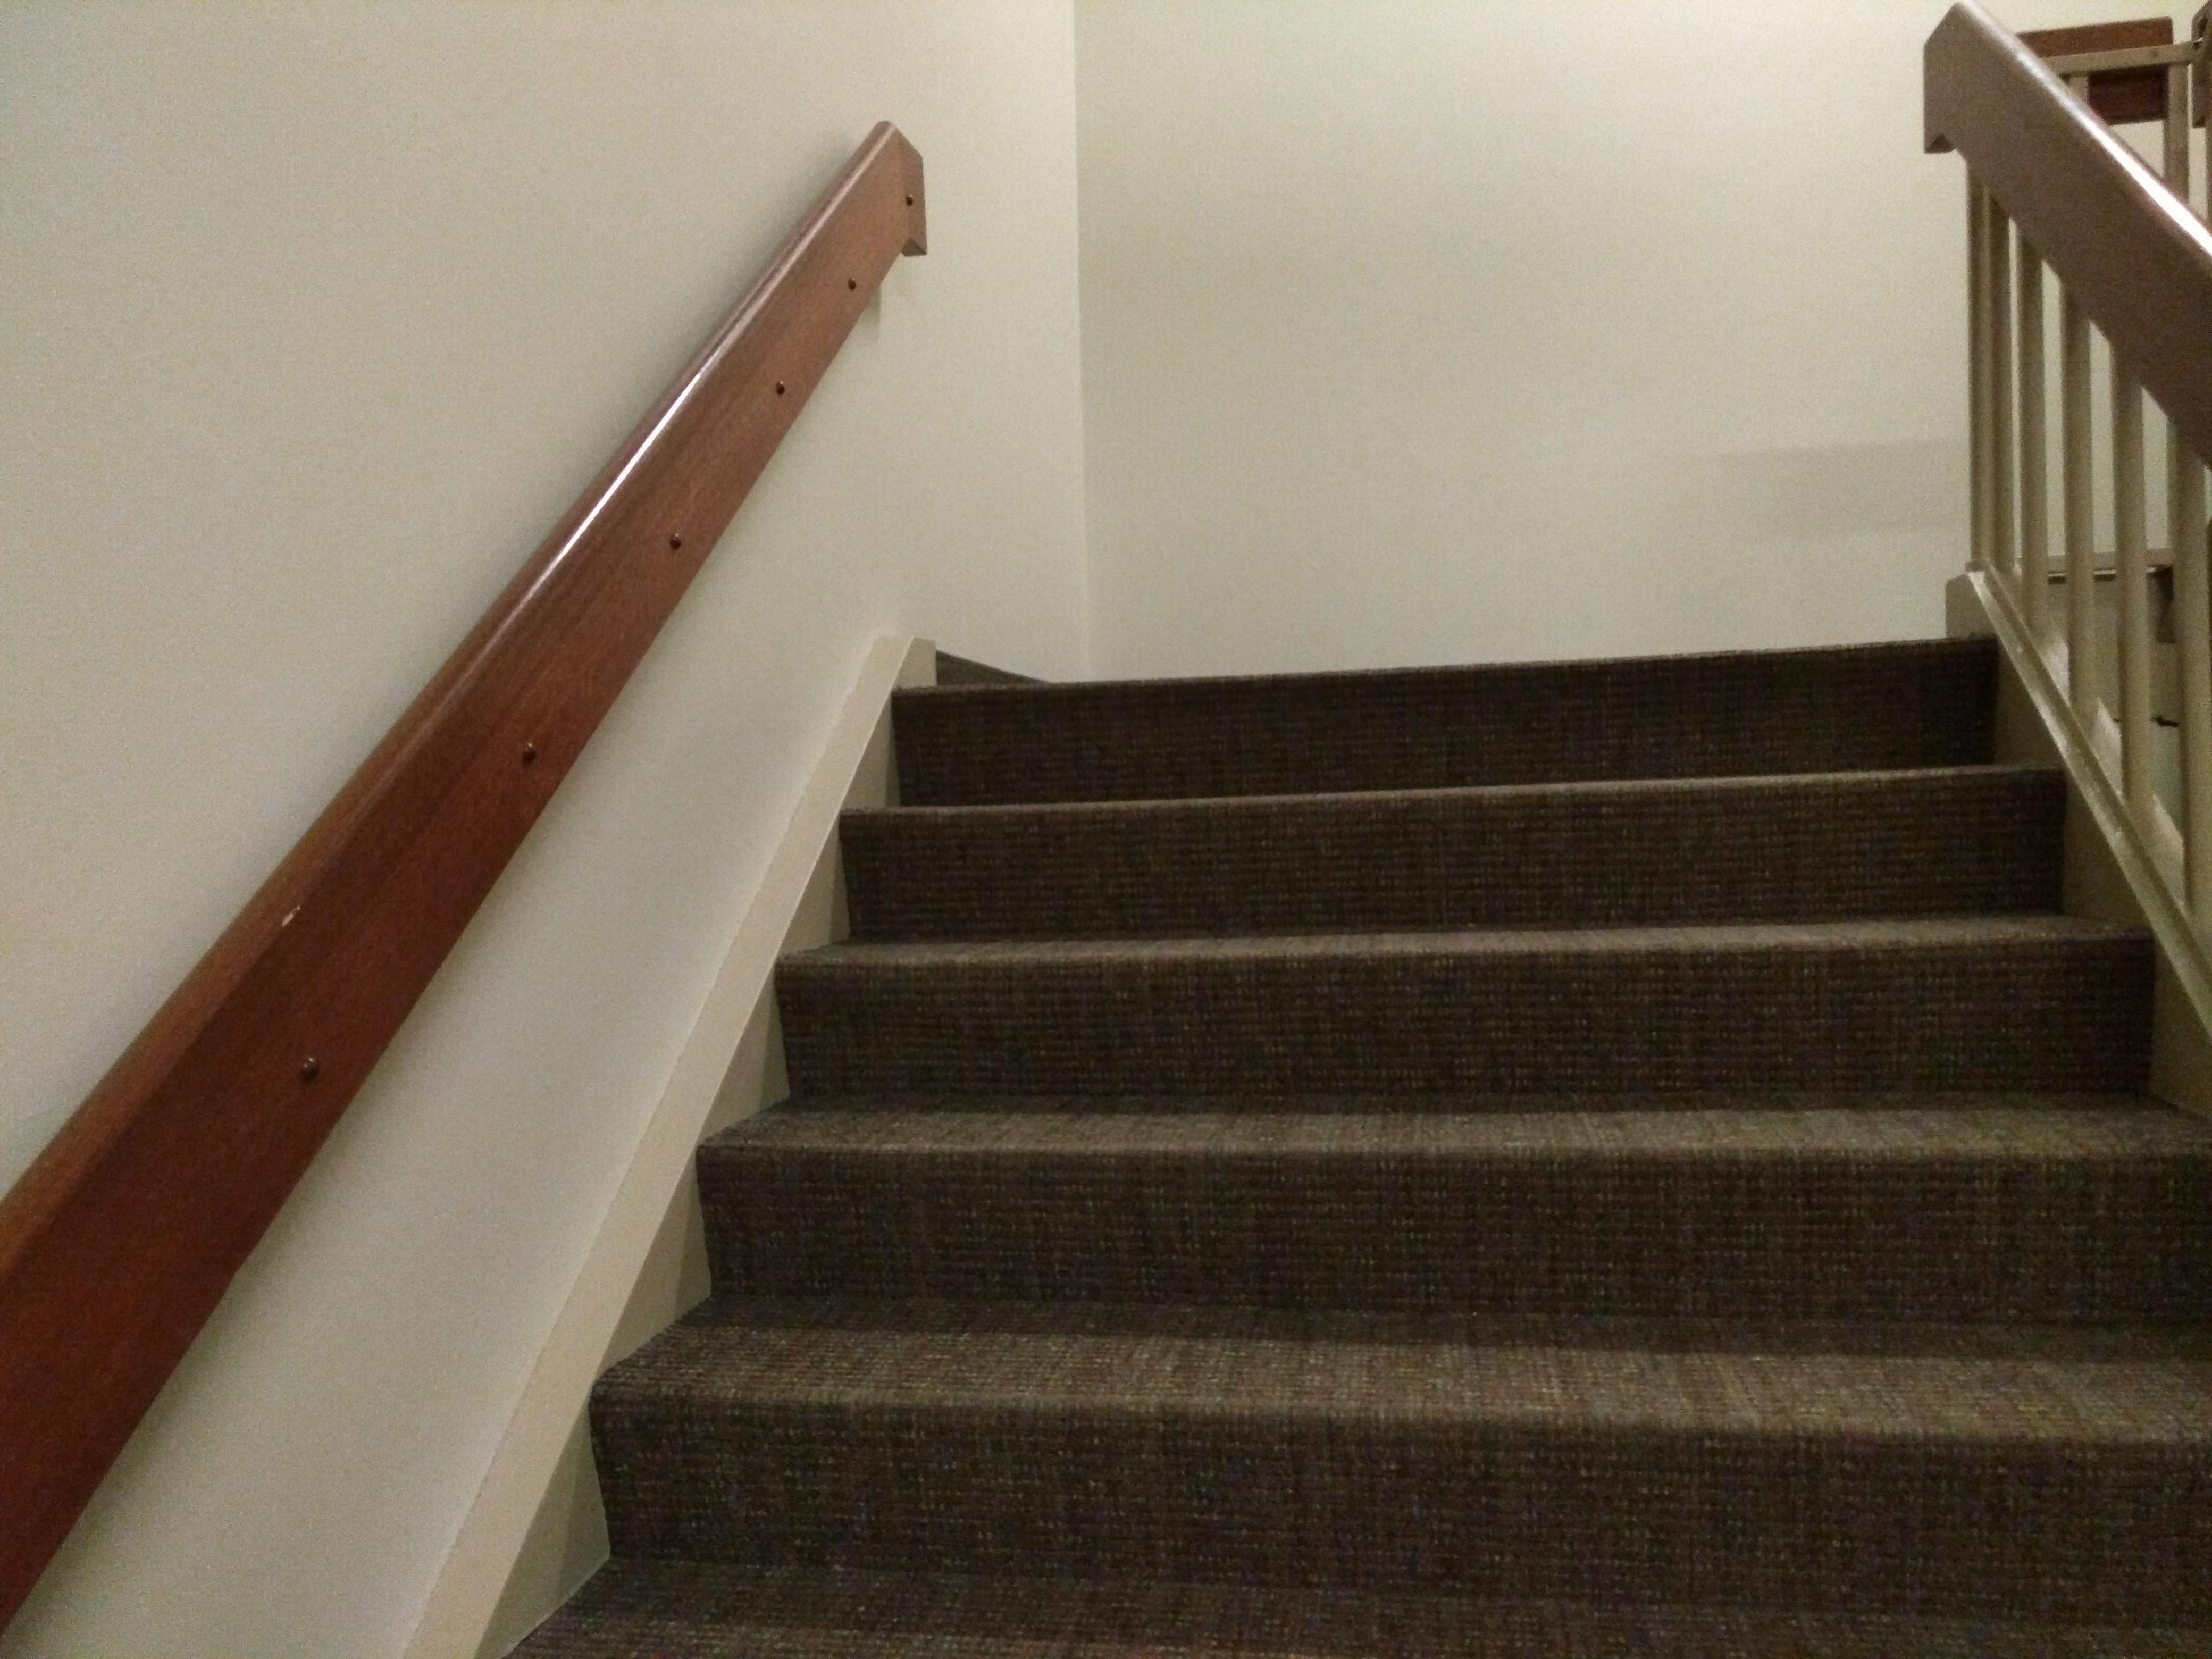stairs_up: (456, 620, 2212, 1659)
